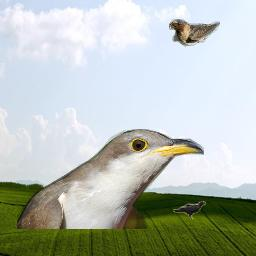Crow: (173, 201, 206, 219)
Cuckoo: (17, 129, 204, 229)
Swallow: (169, 19, 220, 47)
